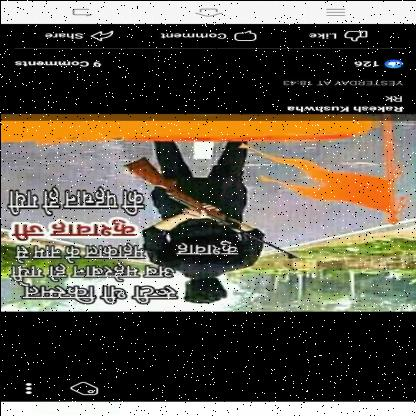rifle: (119, 155, 300, 259)
